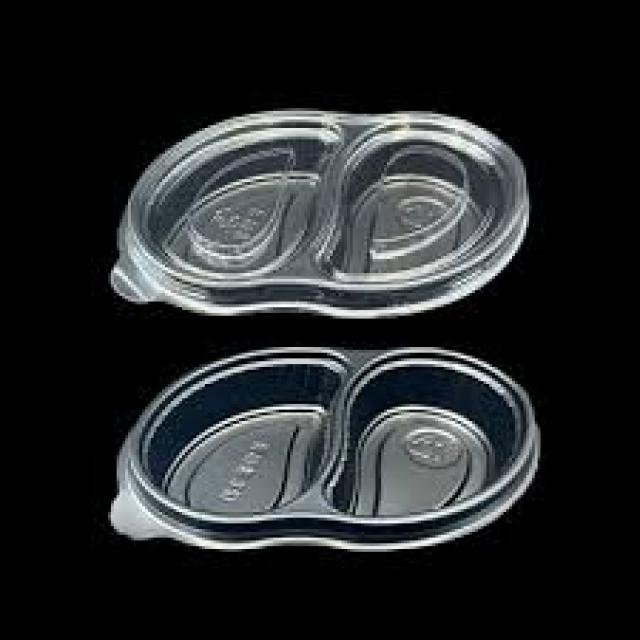disposable: (101, 79, 542, 342), (122, 330, 558, 567)
